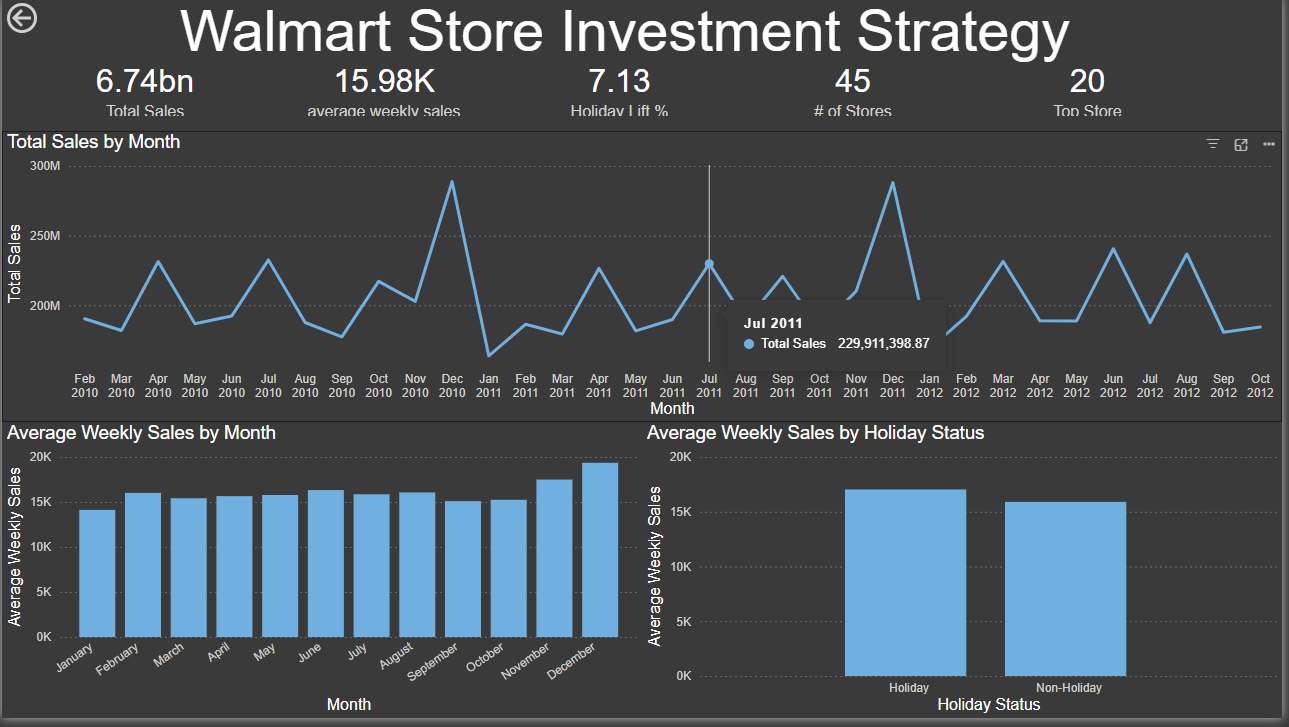

The dashboard page shown, as its layout file describes it:
{"tool":"powerbi","page":{"name":"Page 1","canvas":[1280,720],"ordinal":0},"visuals":[{"type":"actionButton","box":[0,0,100,40],"z":0},{"type":"card","fields":{"Values":["holiday_summary.Total Sales"]},"box":[58.4,47.6,241.5,81.7],"z":0,"group":"g1"},{"type":"card","fields":{"Values":["weekly_sales_trend (2).average weekly sales"]},"box":[288.7,52.4,229.8,78.1],"z":1000,"group":"g1"},{"type":"lineChart","fields":{"Y":["Sum(monthly_sales_mom.Total_Sales)"],"Category":["monthly_sales_mom.Month Label"]},"box":[0,132.2,1279.7,291.6],"z":1000},{"type":"group","id":"g1","title":"Group 1","box":[58.4,47.6,1162.6,84.4],"z":2000},{"type":"card","fields":{"Values":["holiday_summary.Holiday Lift %"]},"box":[524,52.4,229.8,74.5],"z":3000,"group":"g1"},{"type":"clusteredColumnChart","fields":{"Category":["seasonality_by_month.Month_Name"],"Y":["Sum(seasonality_by_month.Avg_Weekly_Sales)"]},"box":[0,423.6,640.3,296.9],"z":3000},{"type":"card","fields":{"Values":["holiday_summary.# of Stores"]},"box":[759.2,52.4,228,79.9],"z":4000,"group":"g1"},{"type":"clusteredColumnChart","fields":{"Y":["Sum(holiday_summary.Avg_Weekly_Sales)"],"Category":["holiday_summary.Period"]},"box":[640,424,640,296],"z":4000},{"type":"textbox","box":[0,0,1279.3,51.2],"z":5000},{"type":"card","fields":{"Values":["holiday_summary.Top Store"]},"box":[992.6,52.4,228.9,79.9],"z":5000,"group":"g1"}]}

Visuals, with their boxes in screenshot pixels (x1, y1, x2, y2), scaled from the page's 1280x720 canvas onto the 1289x727 screenshot:
actionButton: 0,0,101,40
card - holiday_summary.Total Sales: 59,48,302,131
card - weekly_sales_trend (2).average weekly sales: 291,53,522,132
lineChart - Sum(monthly_sales_mom.Total_Sales) x monthly_sales_mom.Month Label: 0,133,1288,428
"Group 1" group: 59,48,1230,133
card - holiday_summary.Holiday Lift %: 528,53,759,128
clusteredColumnChart - seasonality_by_month.Month_Name x Sum(seasonality_by_month.Avg_Weekly_Sales): 0,428,645,726
card - holiday_summary.# of Stores: 765,53,994,134
clusteredColumnChart - Sum(holiday_summary.Avg_Weekly_Sales) x holiday_summary.Period: 644,428,1288,726
textbox: 0,0,1288,52
card - holiday_summary.Top Store: 1000,53,1230,134
